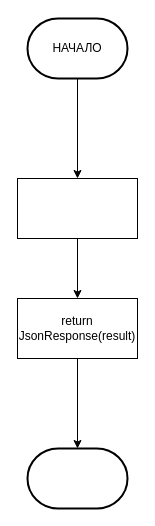
Image size: 155x526. Some labels were removed from this diagram. Here are the shapes that lost their labels. From the top down, the box of each, then its label:
(16, 178, 138, 238): Вызов GetApplicationState()
(26, 447, 128, 509): КОНЕЦ
